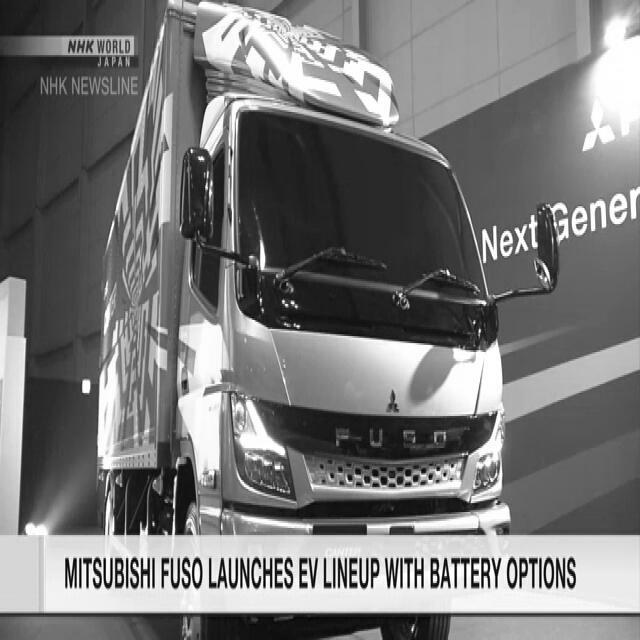truck: (129, 74, 580, 534)
